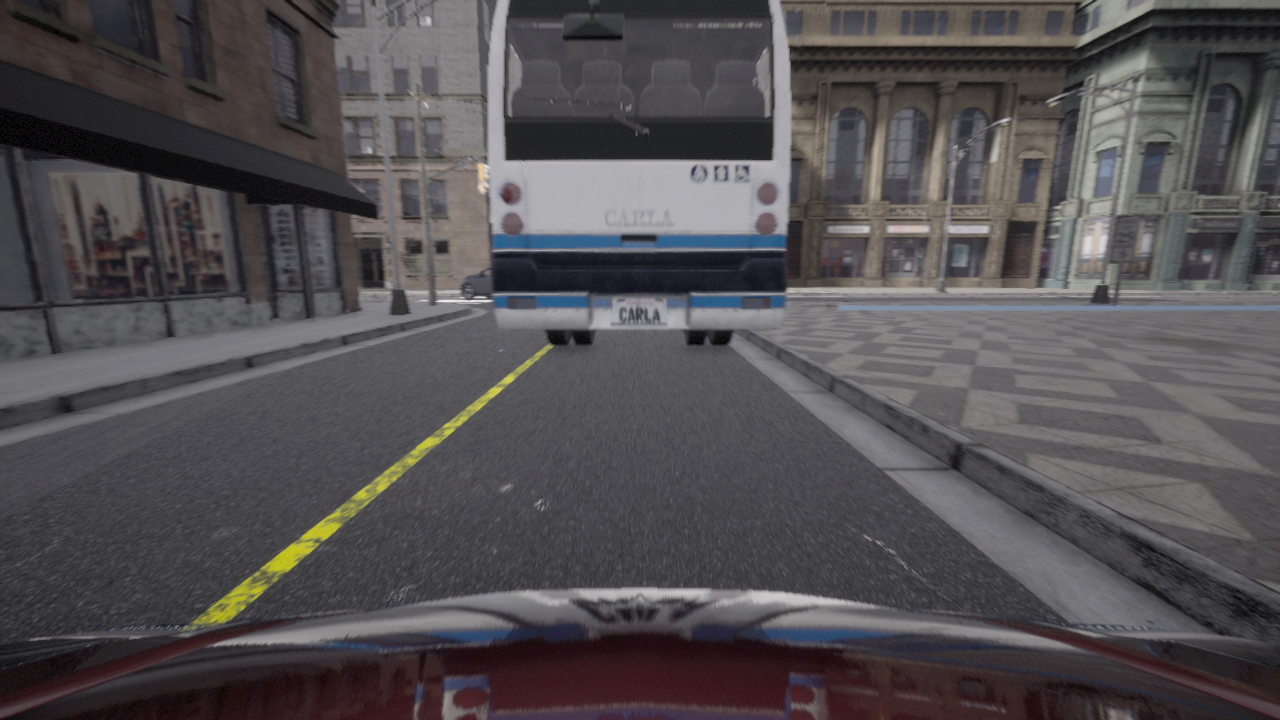cyclist: (0, 588, 1279, 719), (489, 0, 789, 346), (461, 267, 492, 299)
